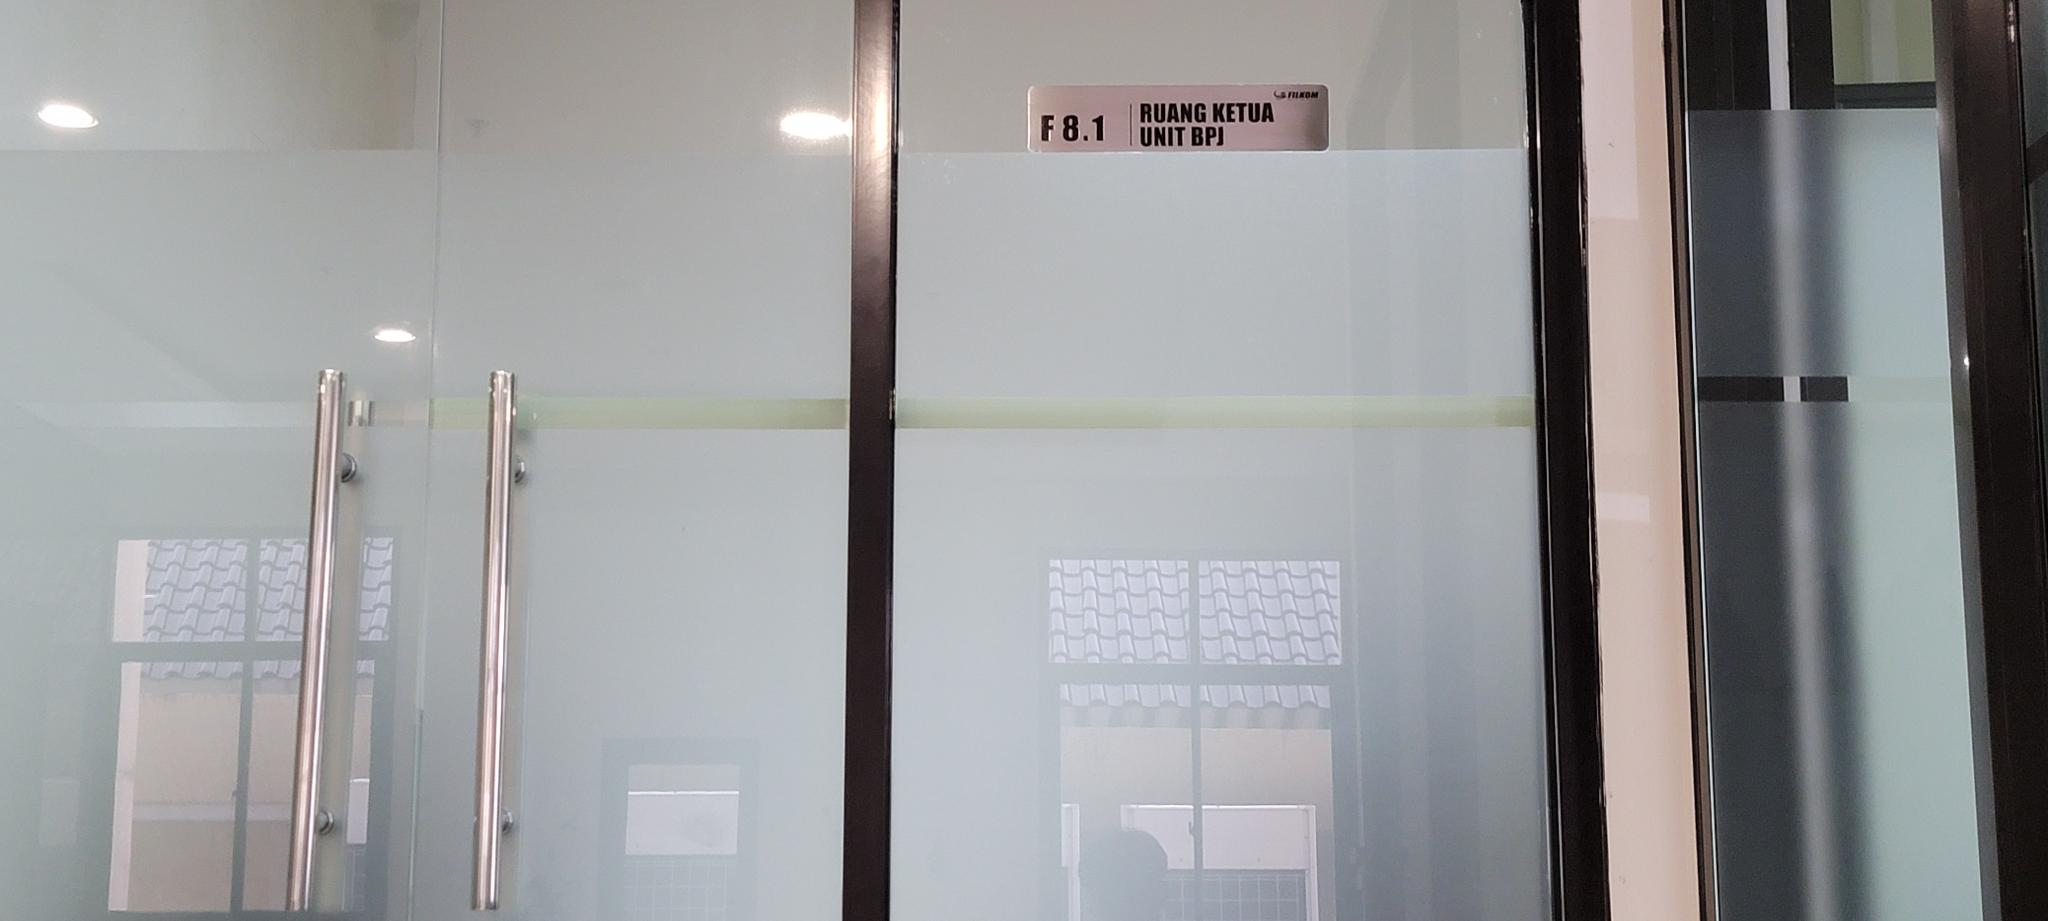plate: (1027, 84, 1332, 159)
